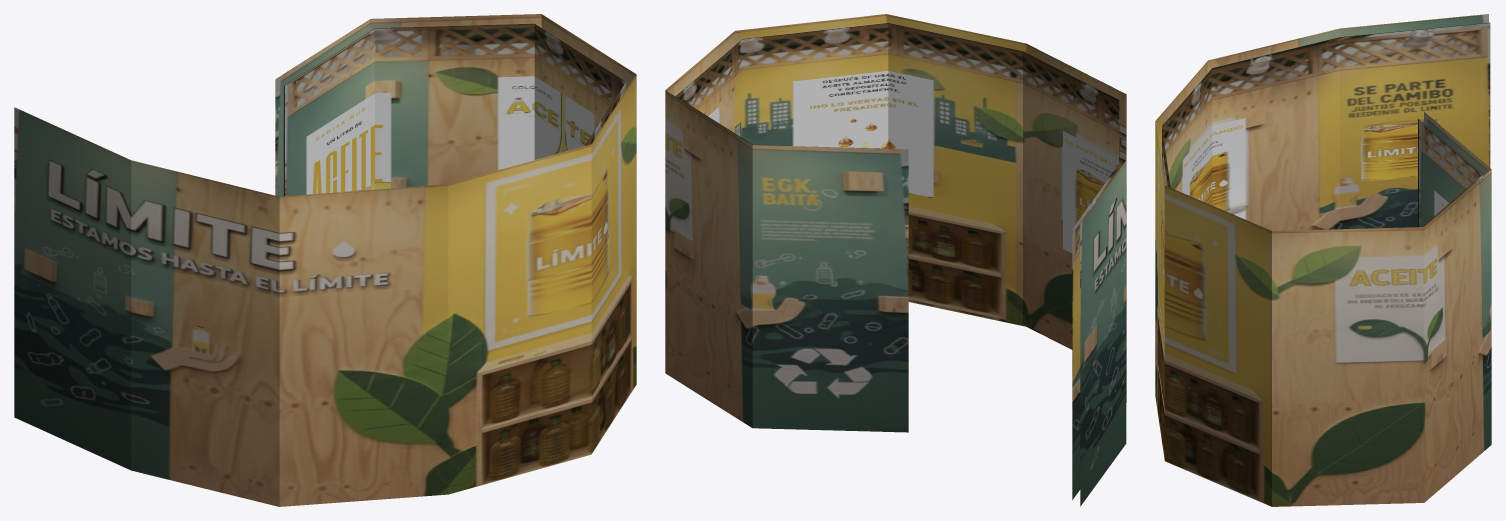
File: aceite.glb
3 renders of one model, left to right at view 1: azimuth 30°, elevation 25°; view 2: azimuth 150°, elevation 25°; view 3: azimuth 270°, elevation 25°, orthographic. The views are drawn at different scales.
Visible parts, largest first — view 1: exterior, interior; view 2: exterior, interior; view 3: exterior, interior.
Boxes of the visible parts, <box> form: exterior: <box>14,14,636,506</box>; interior: <box>283,23,625,196</box>; exterior: <box>665,14,1126,506</box>; interior: <box>675,23,1119,499</box>; exterior: <box>1155,14,1491,506</box>; interior: <box>1162,22,1490,230</box>.
Bounding box in the file's own units: 3.03 × 1.8 × 1.98.
3 materials, 2 textured.
